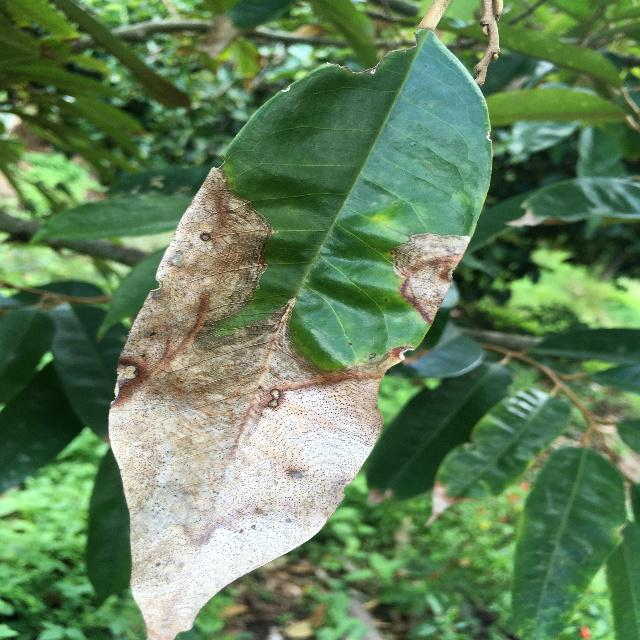Leaf Blight: (98, 17, 508, 639)
